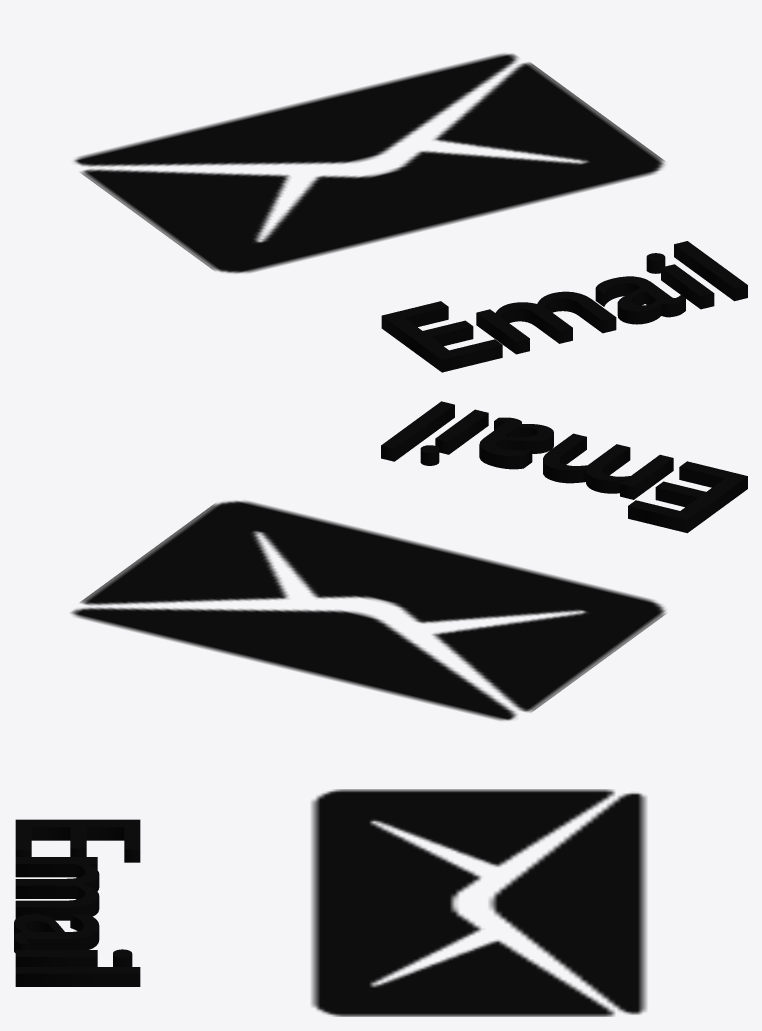
Rendered from email.glb.
3 views of the same model, one above another, from view 1: azimuth 30°, elevation 25°; view 2: azimuth 150°, elevation 25°; view 3: azimuth 270°, elevation 25° (orthographic). The views are drawn at different scales.
Visible parts, largest first — view 1: Text; view 2: Text; view 3: Text.
Boxes of the visible parts, x1,y1,x2,y2 form: Text: [74, 53, 747, 372]; Text: [71, 401, 747, 720]; Text: [14, 789, 646, 1016].
Size of the model in its own units: 1 by 0.0272 by 1.36.
Materials: 2 (1 with a texture image).
